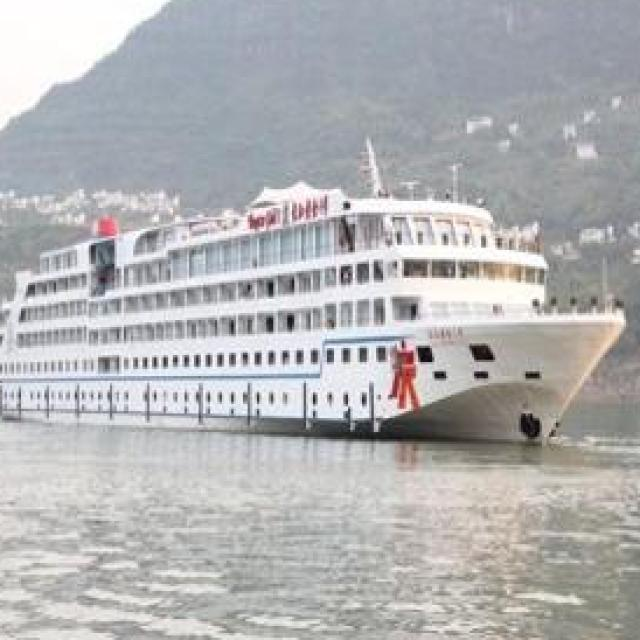passenger ship: (0, 184, 612, 448)
